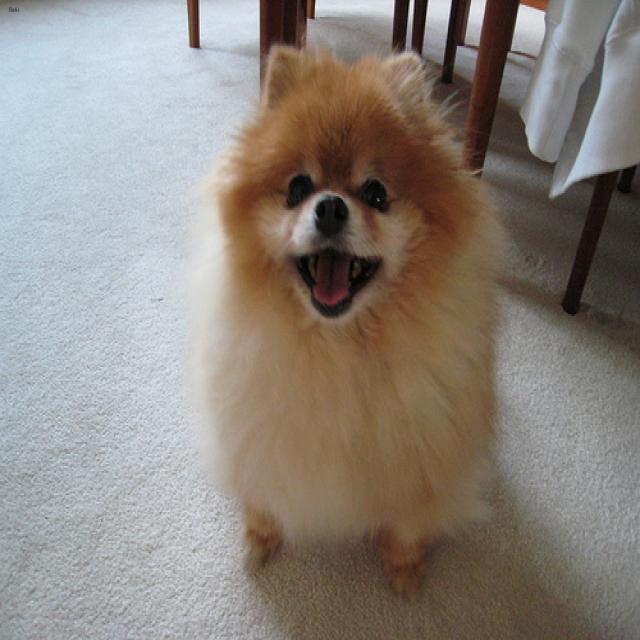dog-pomeranian: (174, 32, 515, 618)
